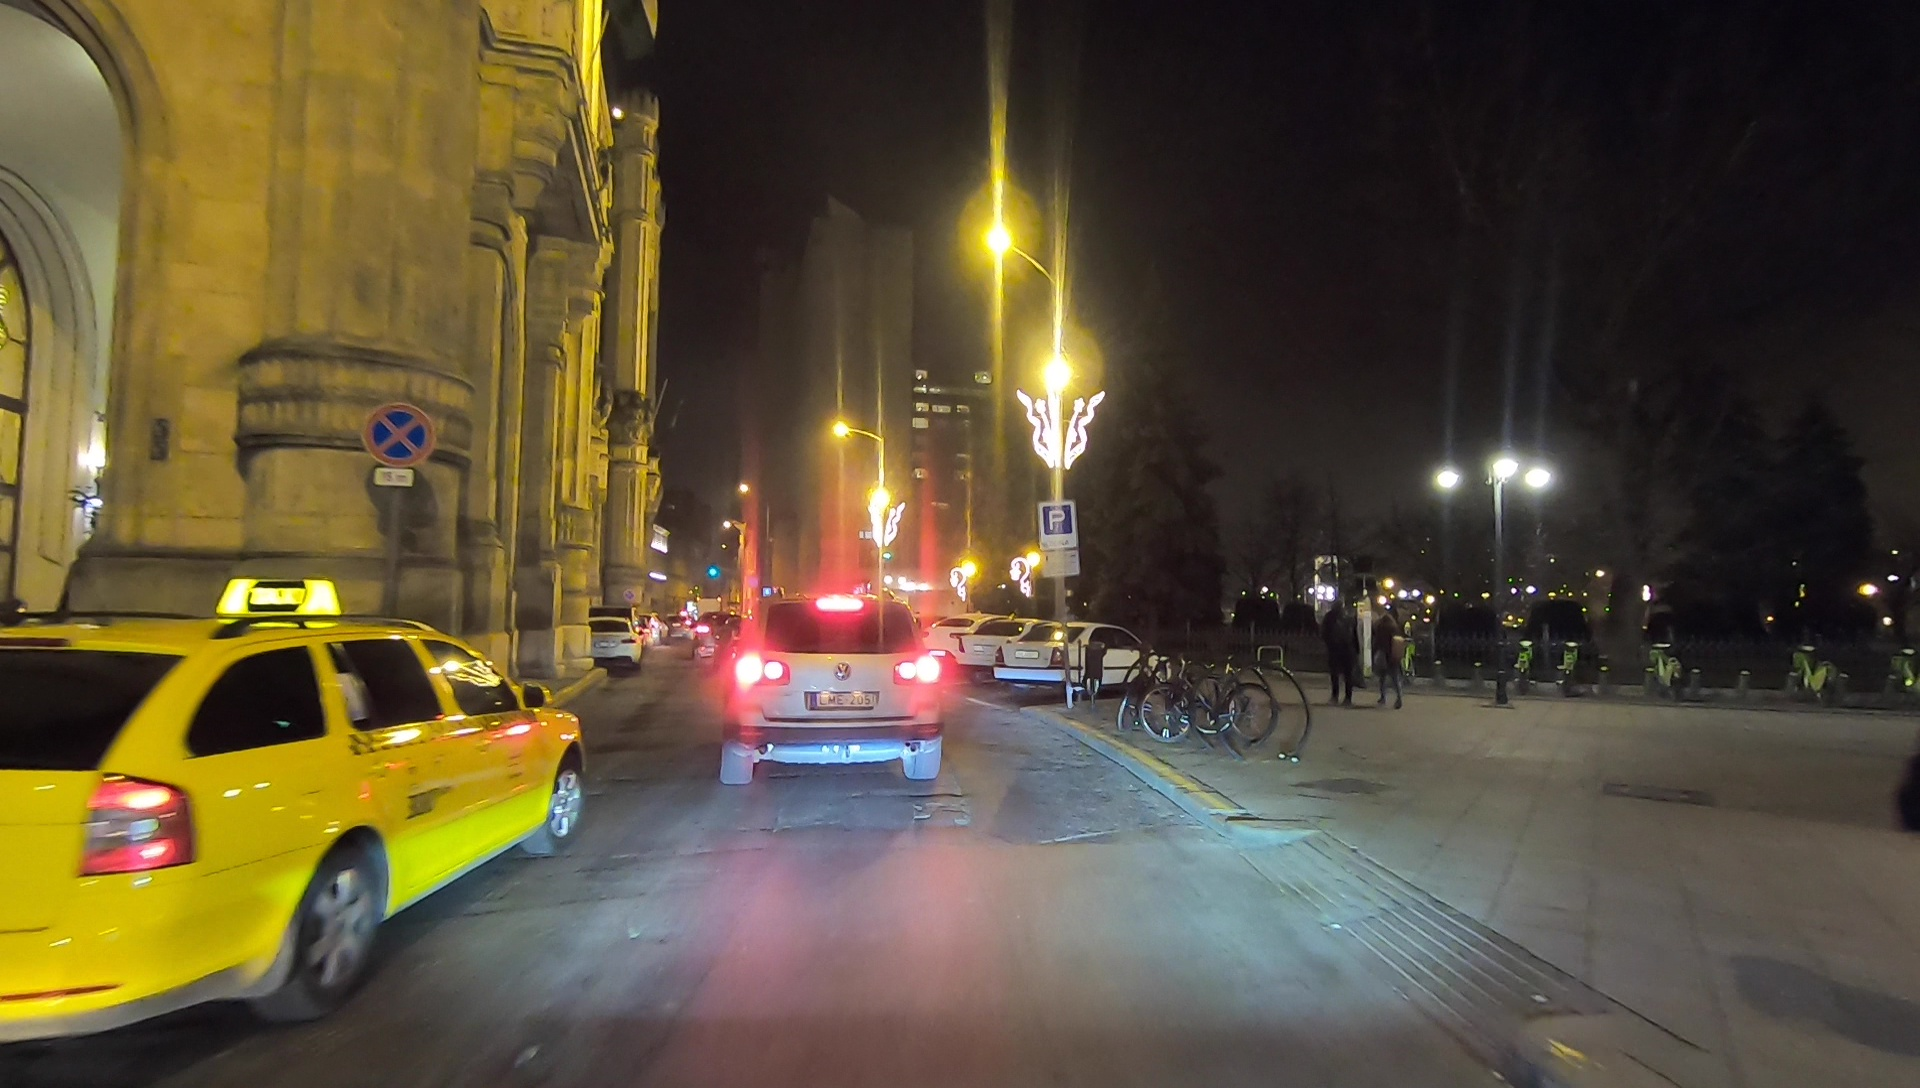person: (1373, 610, 1408, 713), (1325, 595, 1358, 704)
